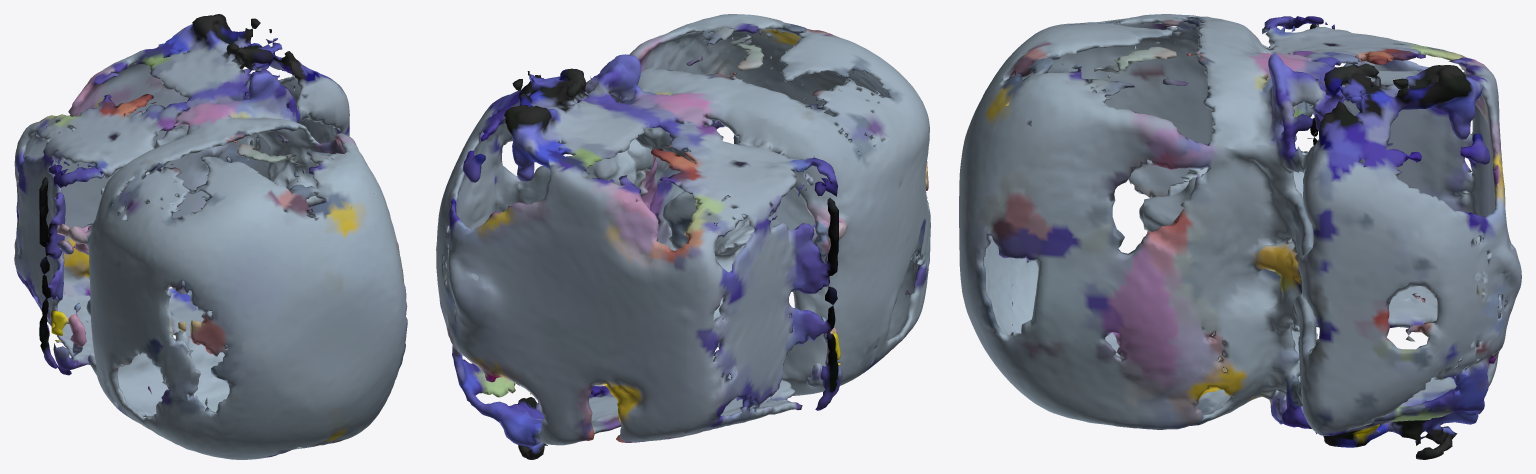
Rendered from backpack.glb.
The picture shows the model from 3 angles, left to right: view 1: azimuth 30°, elevation 25°; view 2: azimuth 150°, elevation 25°; view 3: azimuth 270°, elevation 25°; orthographic projection. The views are drawn at different scales.
Bounding box in the file's own units: 0.7814 × 0.7671 × 0.9998.
